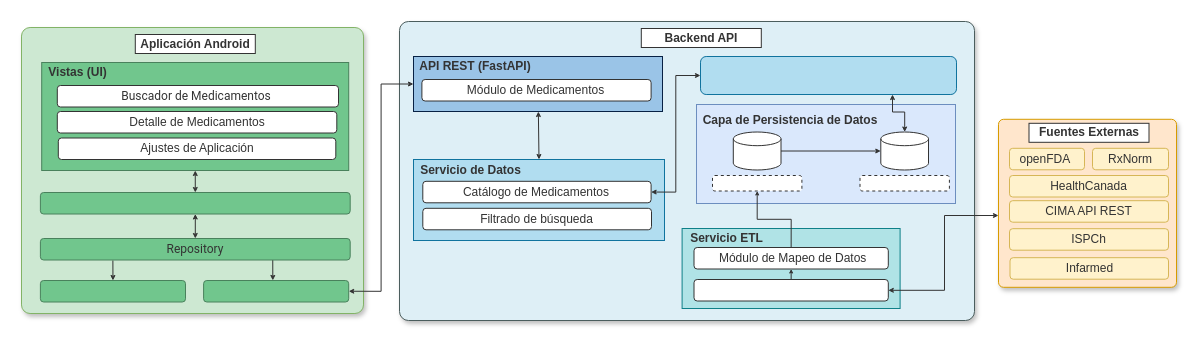
The diagram is 1200 pixels wide and 345 high, and some of its shapes have lost their labels. The centre of each missing label's shape, as x and y in pixels:
"fuentes" belongs at [757,182].
"medicamentos" belongs at [904,182].
"Módulo de Extracción" belongs at [790,289].
"Retrofit" belongs at [276,291].
"Room" belongs at [112,291].
"Servicio de Obtención de Equivalencias" belongs at [828,75].
"ViewModel" belongs at [194,203].
